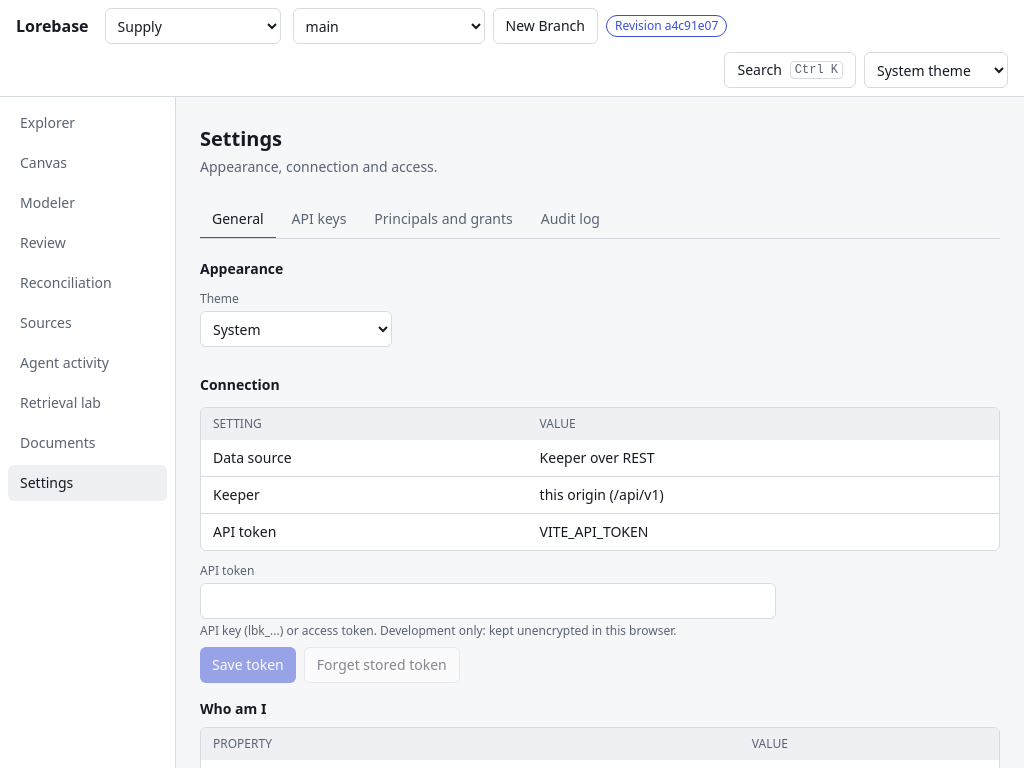
Test: Settings › keeps a typed token in local storage, shows where it came from and forgets it
The width and height of the screenshot is (1024, 768).
Expected: the text "this origin (/api/v1)" is shown, [528, 476, 999, 514]
Expected: the text "VITE_API_TOKEN" is shown, [528, 514, 999, 550]
Type " lbk_typed " into the password field labelled "API token" at (488, 601), box [200, 583, 776, 619]
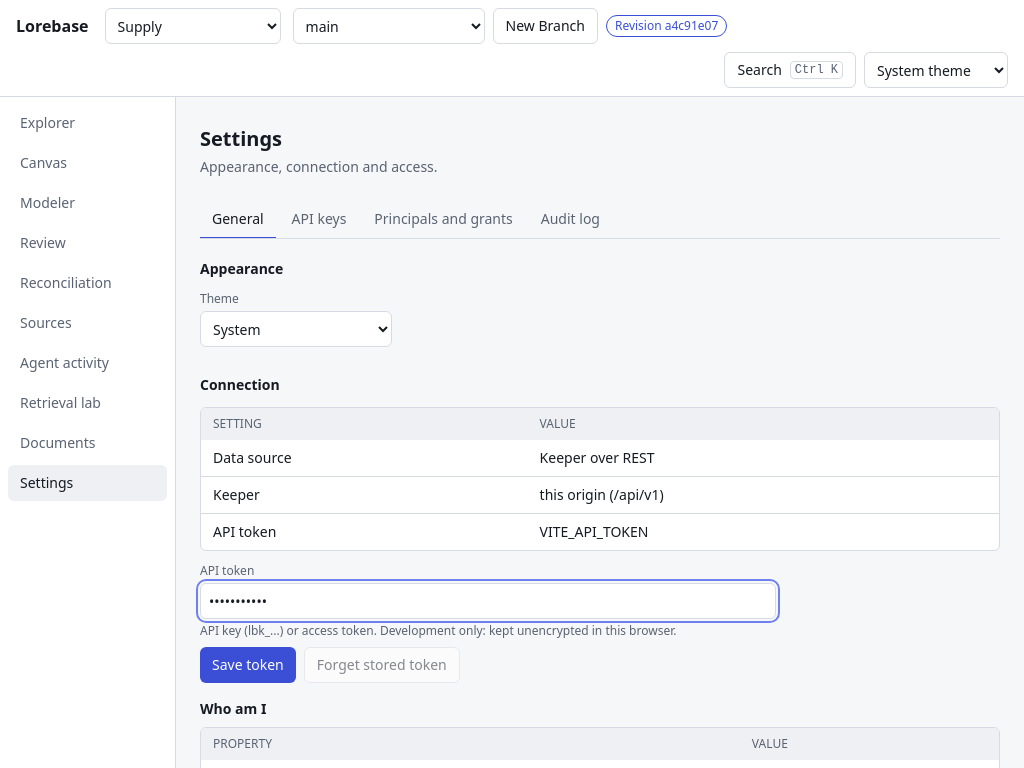
Click the button "Save token" at (248, 665), box [200, 647, 296, 683]
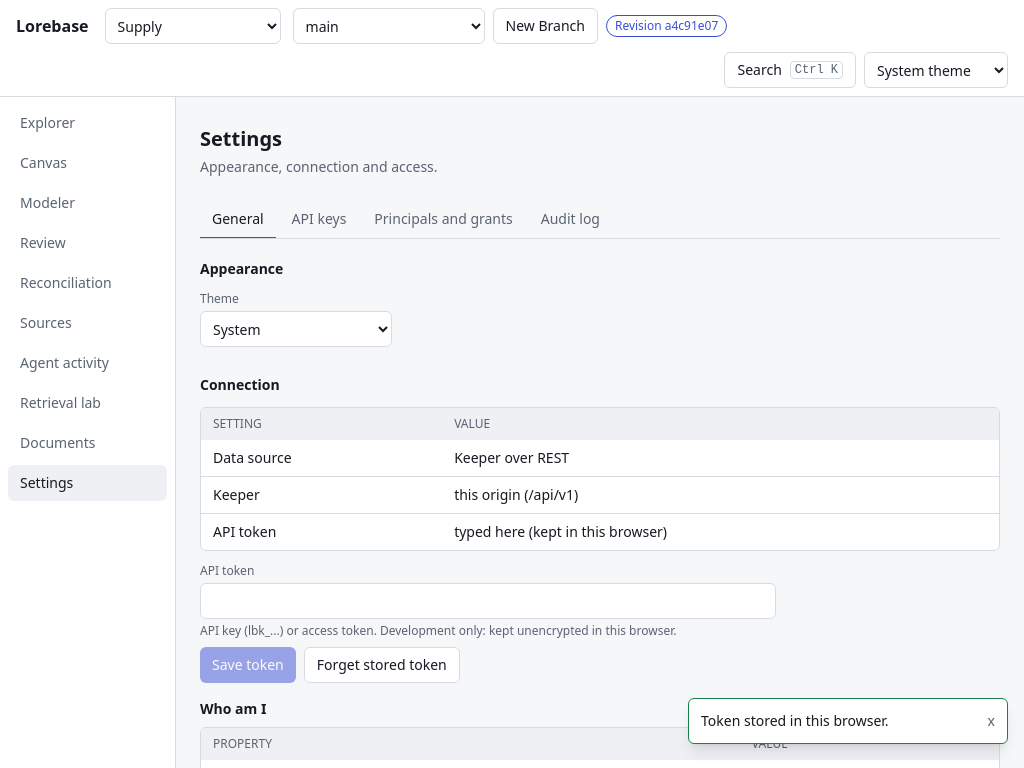
Result: the text "Token stored in this browser." is shown at [701, 711, 889, 731]
Result: the text "typed here (kept in this browser)" is shown at [442, 514, 999, 550]
Click the button "Forget stored token" at (382, 665), box [304, 647, 460, 683]
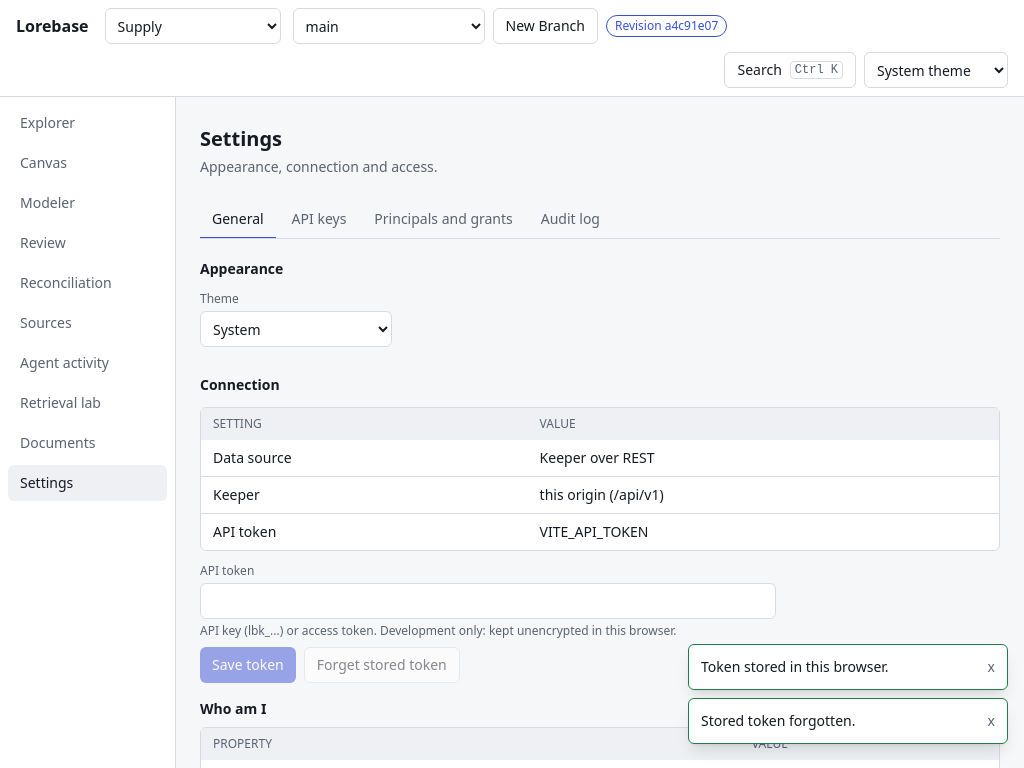
Result: the text "VITE_API_TOKEN" is shown at [528, 514, 999, 550]
